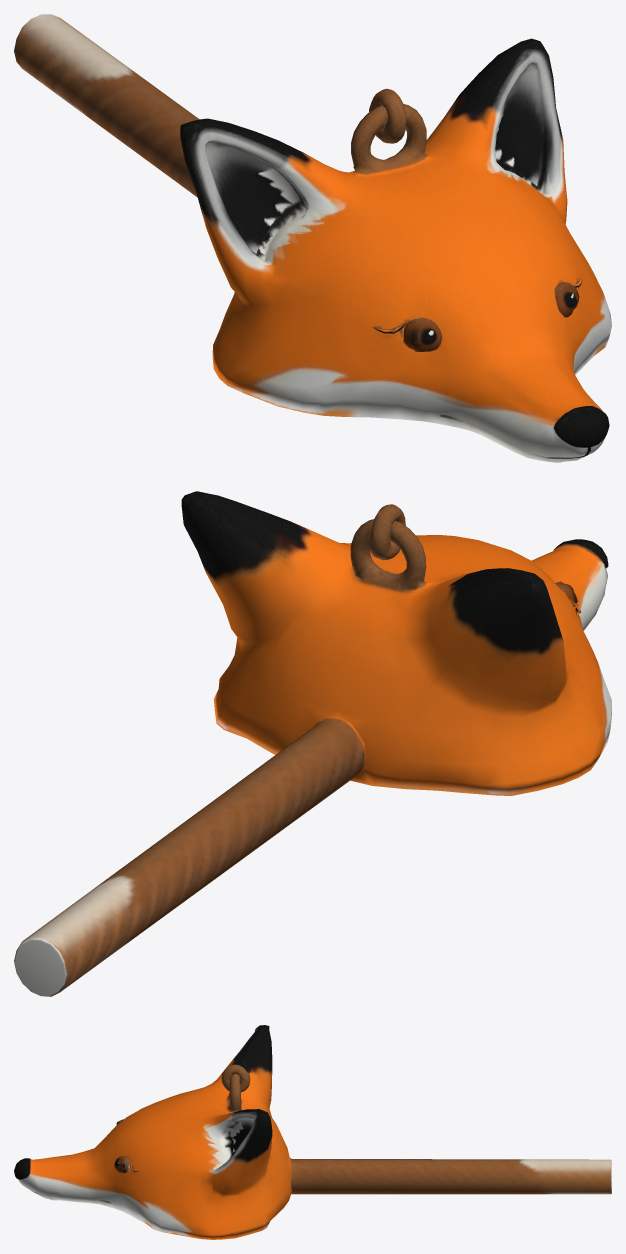
The model's file is foxfire-pack-charm_refine.glb.
3 views of the same model, one above another, from view 1: azimuth 30°, elevation 25°; view 2: azimuth 150°, elevation 25°; view 3: azimuth 270°, elevation 25° (orthographic). The views are drawn at different scales.
Bounding box in the file's own units: 0.3657 × 0.2271 × 0.96.
1 material, 1 textured.
